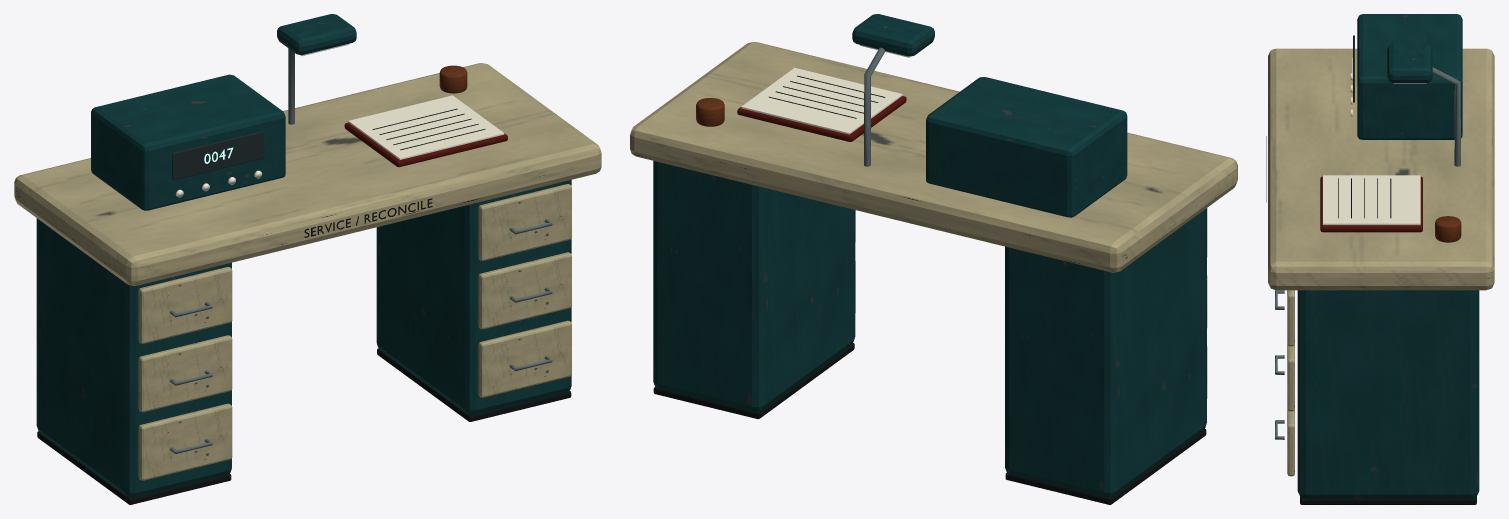
Rendered from marrow-service-desk.glb.
3 renders of one model, left to right at view 1: azimuth 30°, elevation 25°; view 2: azimuth 150°, elevation 25°; view 3: azimuth 270°, elevation 25°, orthographic. The views are drawn at different scales.
Parts seen in each view (by area): view 1: marrow-service-desk | Aged ivory enamel, marrow-service-desk | Petrol enamel, marrow-service-desk | Paper and gauge face, marrow-service-desk | Cast graphite iron, marrow-service-desk | Black rubber and ink, marrow-service-desk | Machined steel, marrow-service-desk | Dark red enamel, marrow-service-desk | Copper ink plumbing; view 2: marrow-service-desk | Petrol enamel, marrow-service-desk | Aged ivory enamel, marrow-service-desk | Paper and gauge face, marrow-service-desk | Cast graphite iron, marrow-service-desk | Dark red enamel, marrow-service-desk | Machined steel, marrow-service-desk | Copper ink plumbing; view 3: marrow-service-desk | Petrol enamel, marrow-service-desk | Aged ivory enamel, marrow-service-desk | Paper and gauge face, marrow-service-desk | Cast graphite iron, marrow-service-desk | Machined steel, marrow-service-desk | Dark red enamel, marrow-service-desk | Copper ink plumbing.
Boxes of the visible parts, bbox=[...] form: marrow-service-desk | Aged ivory enamel: bbox=[14, 63, 601, 480]; marrow-service-desk | Petrol enamel: bbox=[36, 14, 571, 497]; marrow-service-desk | Paper and gauge face: bbox=[176, 44, 504, 197]; marrow-service-desk | Cast graphite iron: bbox=[37, 108, 571, 504]; marrow-service-desk | Black rubber and ink: bbox=[172, 131, 263, 180]; marrow-service-desk | Machined steel: bbox=[170, 48, 552, 453]; marrow-service-desk | Dark red enamel: bbox=[344, 122, 507, 167]; marrow-service-desk | Copper ink plumbing: bbox=[439, 65, 467, 93]; marrow-service-desk | Petrol enamel: bbox=[653, 14, 1206, 497]; marrow-service-desk | Aged ivory enamel: bbox=[630, 42, 1237, 398]; marrow-service-desk | Paper and gauge face: bbox=[741, 45, 910, 134]; marrow-service-desk | Cast graphite iron: bbox=[653, 75, 1206, 504]; marrow-service-desk | Dark red enamel: bbox=[737, 96, 906, 141]; marrow-service-desk | Machined steel: bbox=[864, 47, 885, 166]; marrow-service-desk | Copper ink plumbing: bbox=[696, 98, 724, 126]; marrow-service-desk | Petrol enamel: bbox=[1297, 14, 1479, 498]; marrow-service-desk | Aged ivory enamel: bbox=[1268, 48, 1494, 476]; marrow-service-desk | Paper and gauge face: bbox=[1322, 73, 1426, 225]; marrow-service-desk | Cast graphite iron: bbox=[1266, 136, 1476, 504]; marrow-service-desk | Machined steel: bbox=[1275, 67, 1460, 439]; marrow-service-desk | Dark red enamel: bbox=[1320, 176, 1422, 232]; marrow-service-desk | Copper ink plumbing: bbox=[1435, 216, 1461, 242].
Size of the model in its own units: 2.18 by 1.65 by 0.9568.
Materials: 9 (6 with a texture image).
